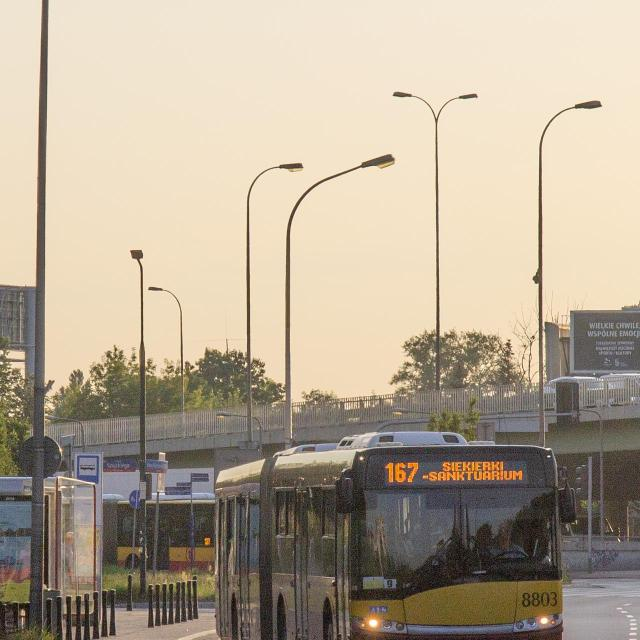Bus: (215, 442, 564, 640)
Electric pole: (284, 154, 396, 448), (394, 90, 478, 391), (534, 100, 603, 447), (246, 162, 303, 447), (28, 0, 47, 630), (130, 250, 146, 592)
